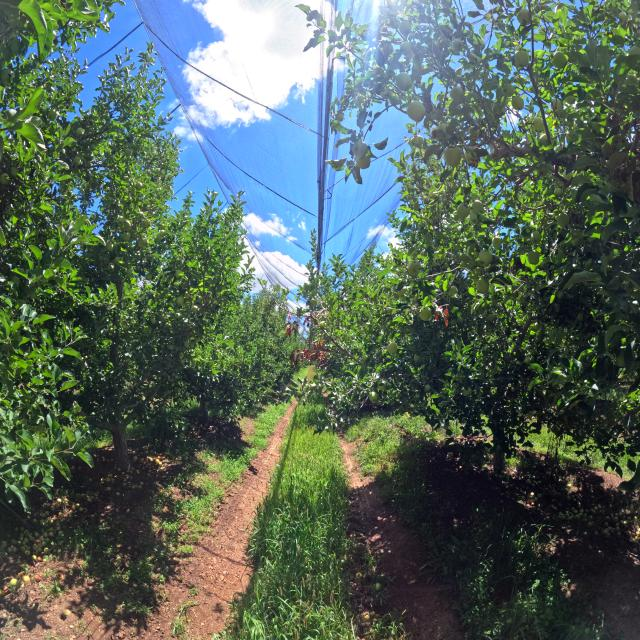-FireBlight-: (289, 342, 328, 366), (282, 317, 298, 337), (303, 314, 317, 328)
